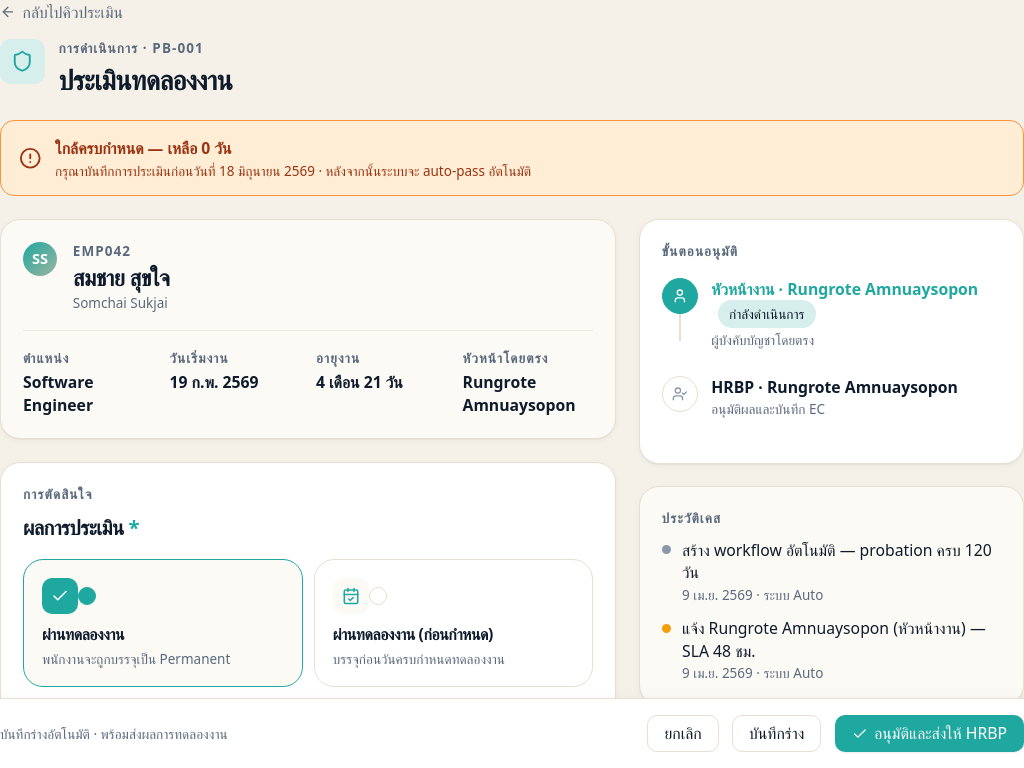
Scenario: ProbationDetailPage — STA-125 pass-probation feedback › pass-before-due: effective date required, earlier-than-due + >= hireDate validation
Expected: the heading "ประเมินทดลองงาน" is shown, [58,62,232,98]
Click the button "ผ่านทดลองงาน (ก่อนกำหนด) บรรจุก่อนวันครบกำหนดทดลองงาน" at (454,623), box [314,559,593,687]
(page scrolled)
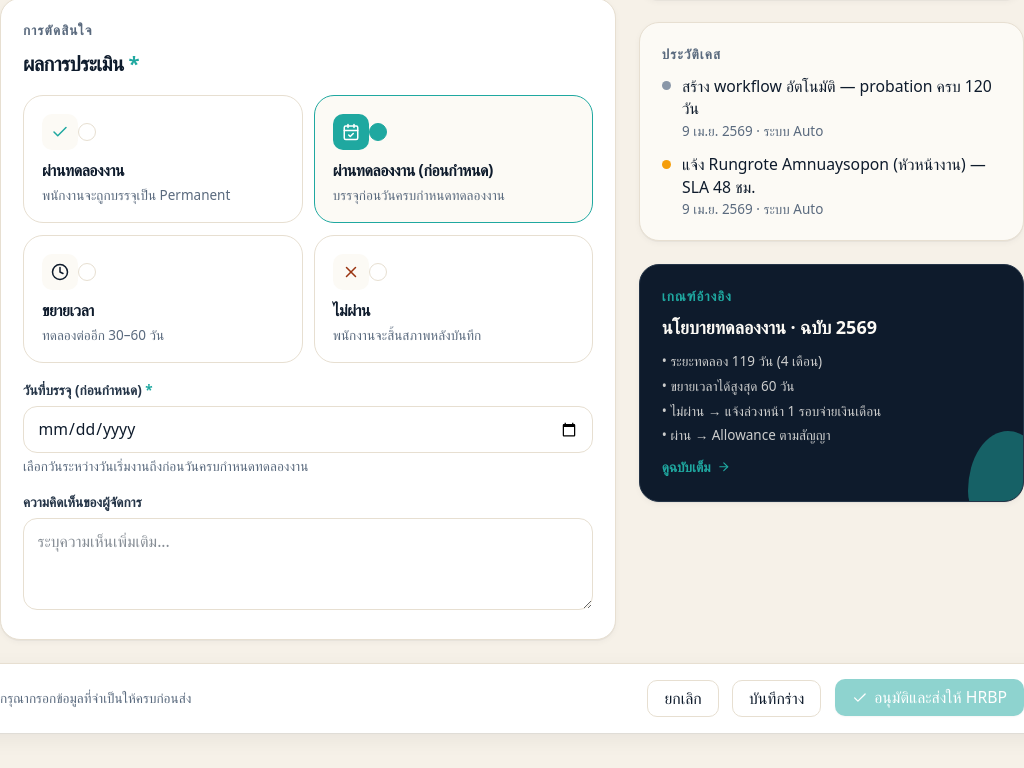
Result: the date field named "วันที่บรรจุก่อนกำหนด" is shown
Result: the button "อนุมัติและส่งให้ HRBP" is disabled at [835,679,1023,716]
// date on/after due → earlier error
Type "2026-06-18" into the date field named "วันที่บรรจุก่อนกำหนด" at (308,429), box [23,406,593,453]
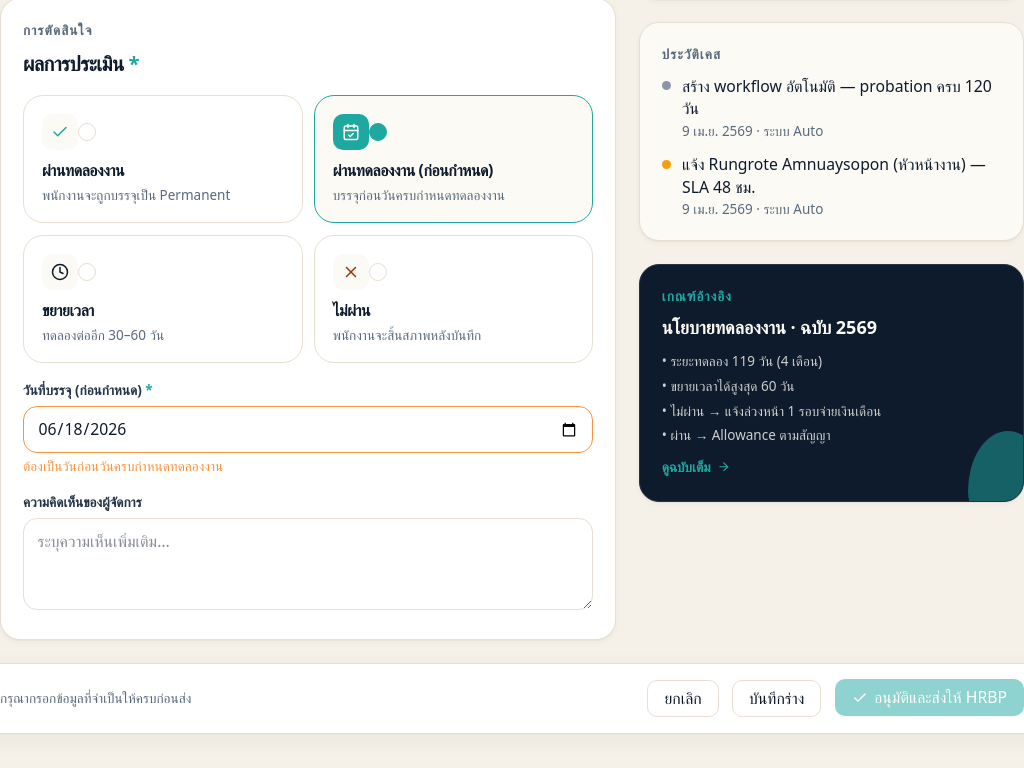
Result: the text "ต้องเป็นวันก่อนวันครบกำหนดทดลองงาน" is shown at [23,457,223,475]
Type "2026-07-01" into the date field named "วันที่บรรจุก่อนกำหนด" at (308,429), box [23,406,593,453]
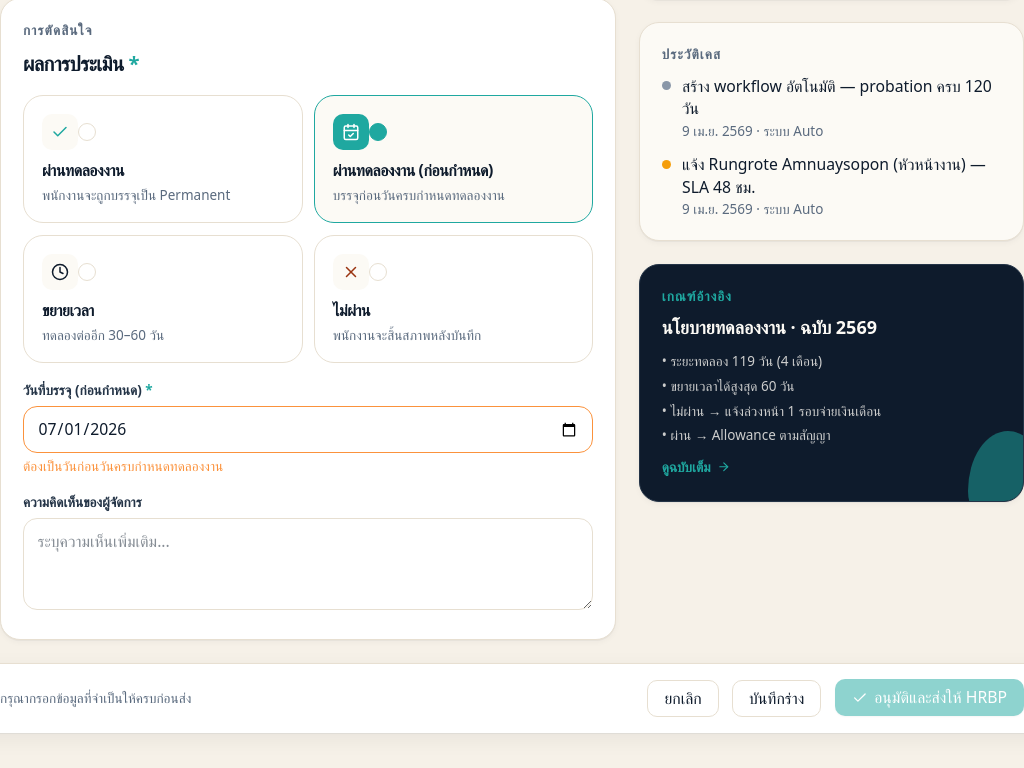
Result: the text "ต้องเป็นวันก่อนวันครบกำหนดทดลองงาน" is shown at [23,457,223,475]
// pre-hire date → lower-bound error
Type "2026-01-01" into the date field named "วันที่บรรจุก่อนกำหนด" at (308,429), box [23,406,593,453]
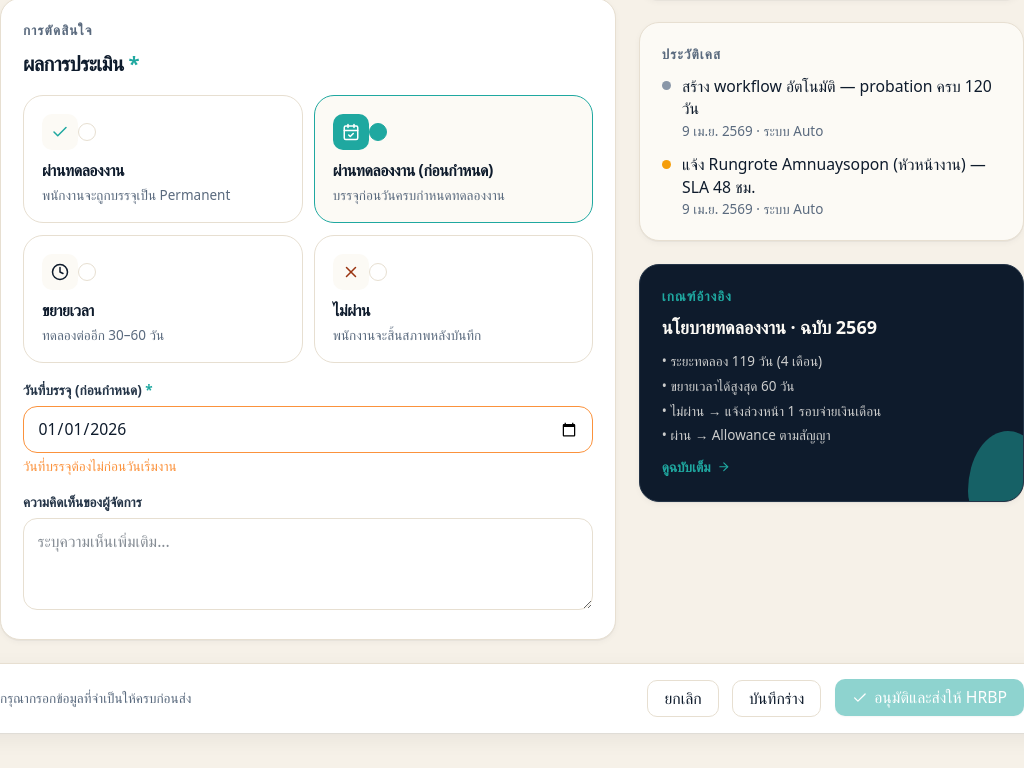
Result: the text "วันที่บรรจุต้องไม่ก่อนวันเริ่มงาน" is shown at [23,457,177,475]
Type "2026-06-01" into the date field named "วันที่บรรจุก่อนกำหนด" at (308,429), box [23,406,593,453]
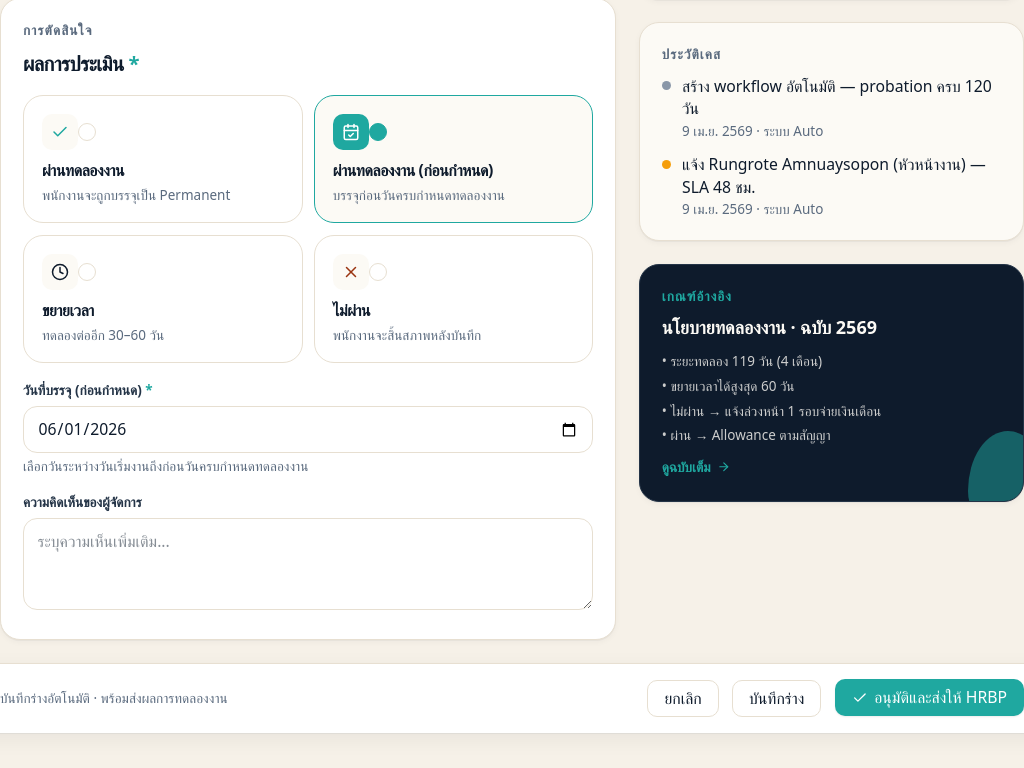
Expected: the text "ต้องเป็นวันก่อนวันครบกำหนดทดลองงาน" is not shown
Result: the text "วันที่บรรจุต้องไม่ก่อนวันเริ่มงาน" is gone
Result: the button "อนุมัติและส่งให้ HRBP" is enabled at [835,679,1023,716]
